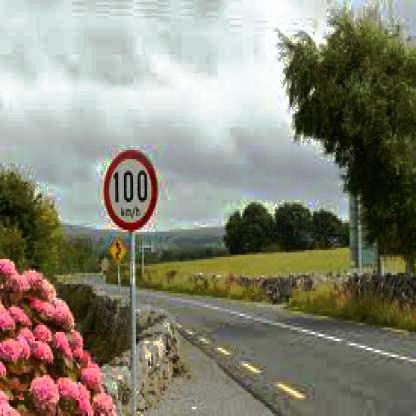Speed Limit -100-: (102, 145, 158, 230)
